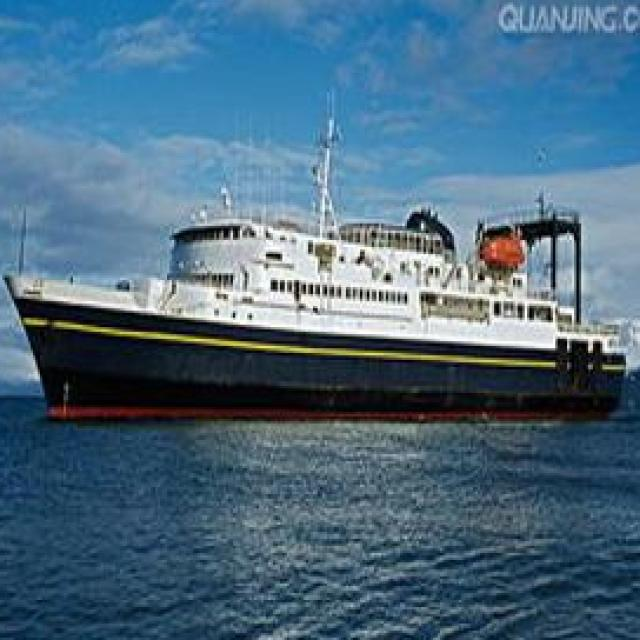passenger ship: (3, 186, 627, 427)
